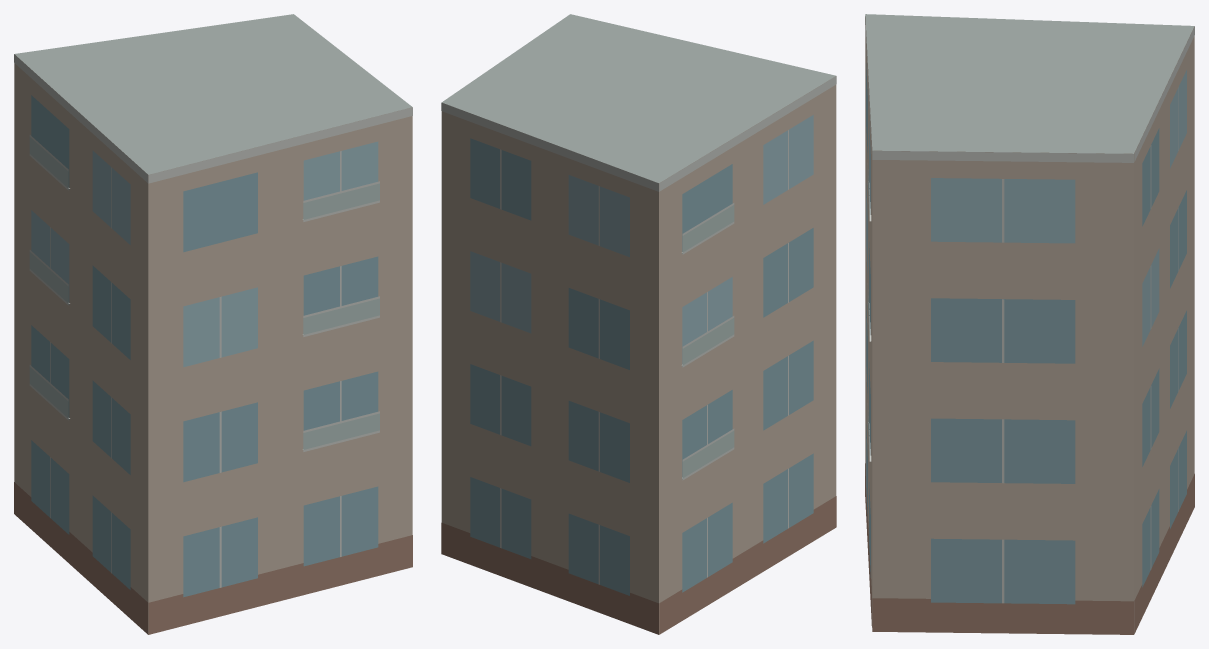
Rendered from survey-upis-32464206.glb.
3 renders of one model, left to right at view 1: azimuth 30°, elevation 25°; view 2: azimuth 150°, elevation 25°; view 3: azimuth 270°, elevation 25°, orthographic. The views are drawn at different scales.
Visible parts, largest first — view 1: survey-upis-32464206.tmp; view 2: survey-upis-32464206.tmp; view 3: survey-upis-32464206.tmp.
Part boxes in pixels (x1=…): survey-upis-32464206.tmp: x1=14, y1=14, x2=412, y2=634; survey-upis-32464206.tmp: x1=441, y1=14, x2=836, y2=634; survey-upis-32464206.tmp: x1=865, y1=14, x2=1194, y2=634.
Size of the model in its own units: 7.99 by 12.8 by 7.95.
